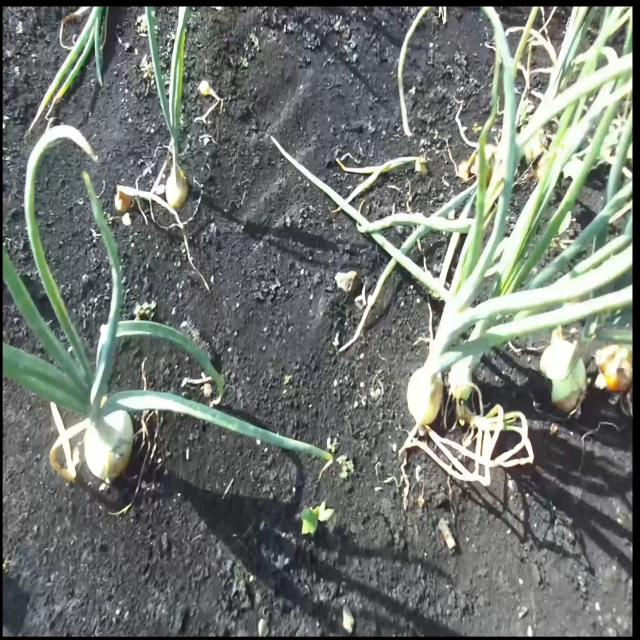onion: (83, 406, 134, 484), (543, 340, 585, 415), (407, 354, 438, 430), (165, 164, 188, 212), (452, 352, 472, 402)
